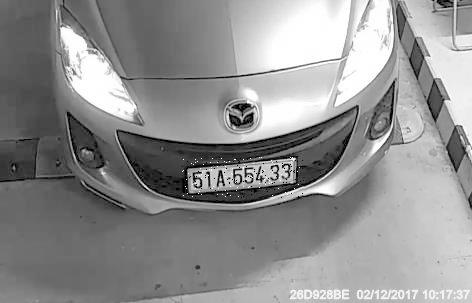License-plate: (184, 158, 306, 199)
